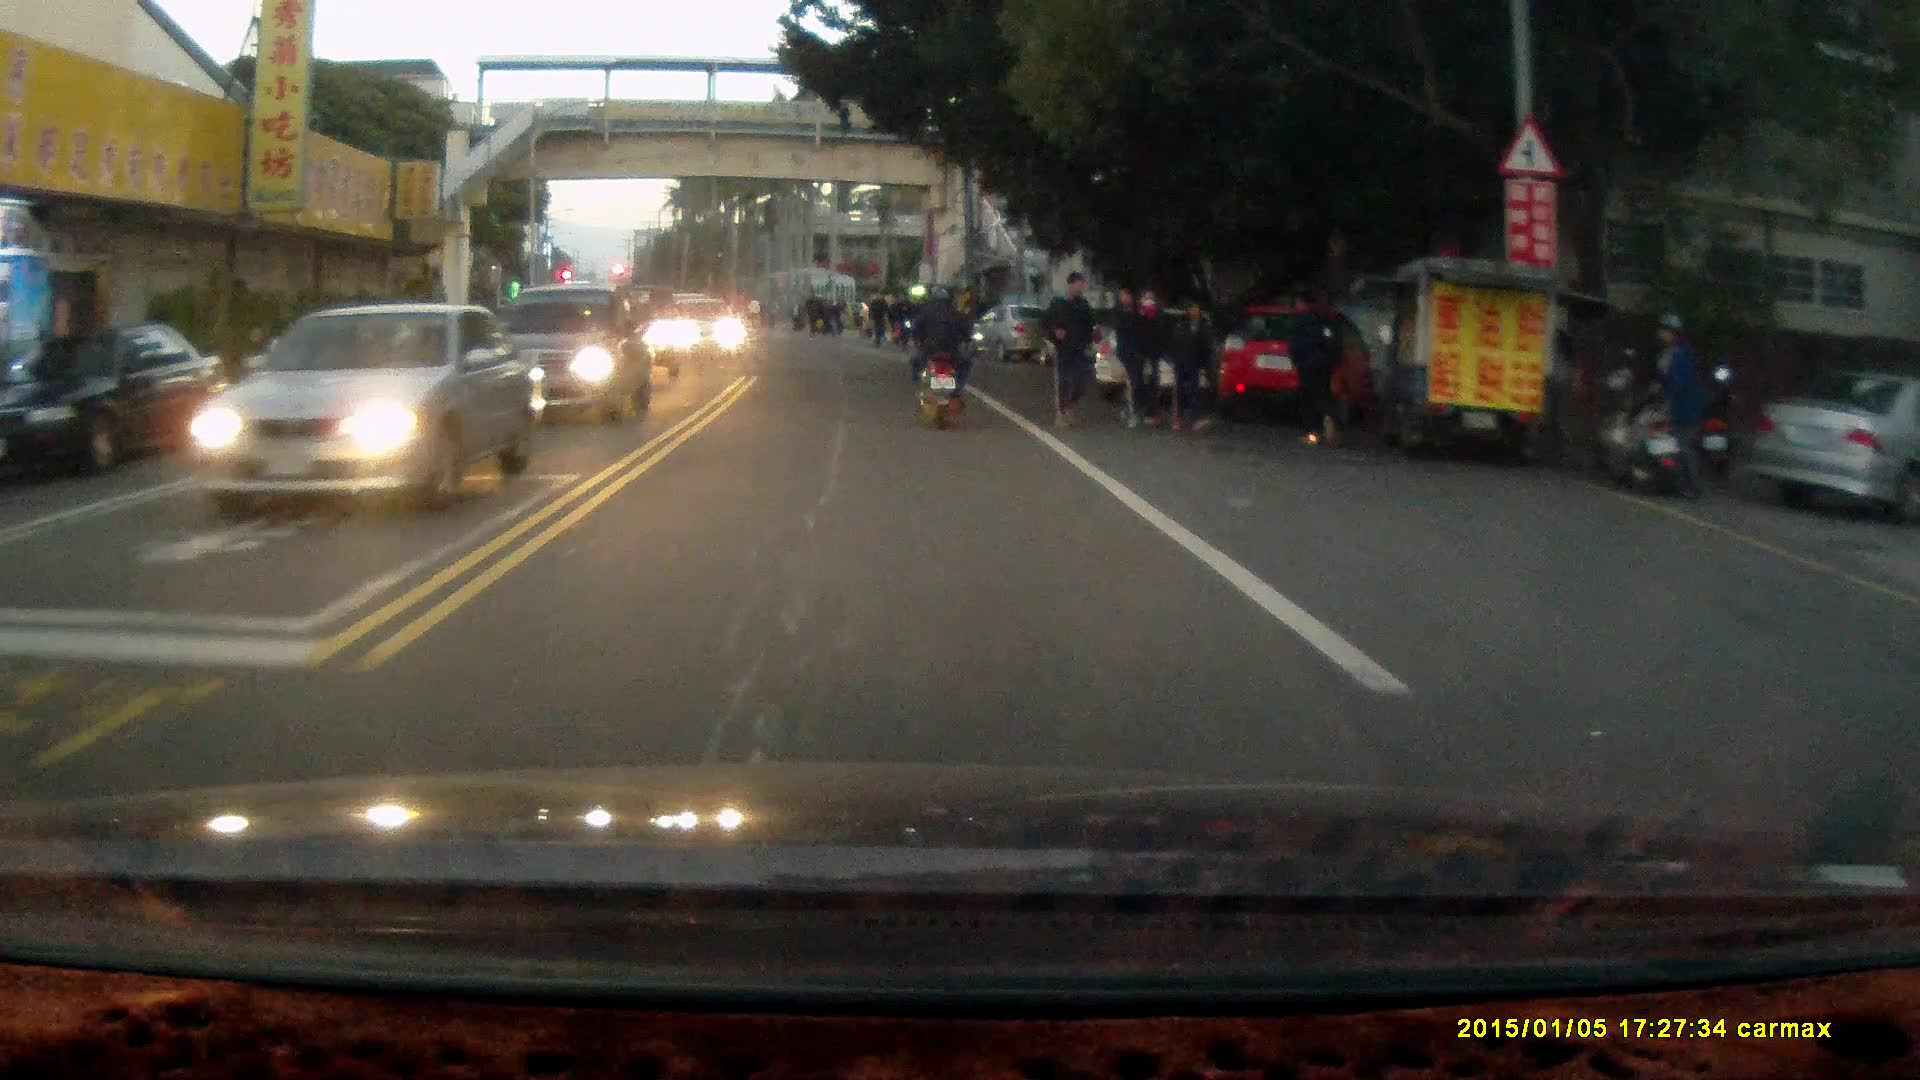pedestrian: (1658, 285, 1716, 470), (1282, 280, 1347, 440), (1039, 268, 1102, 430), (1165, 292, 1220, 436), (1109, 281, 1151, 428)
rider: (903, 278, 978, 432)
vehicle: (178, 299, 531, 507), (3, 320, 220, 482), (1746, 372, 1919, 527), (498, 282, 651, 423), (1212, 299, 1372, 418), (1086, 300, 1263, 408), (667, 295, 751, 359), (979, 300, 1061, 362)
